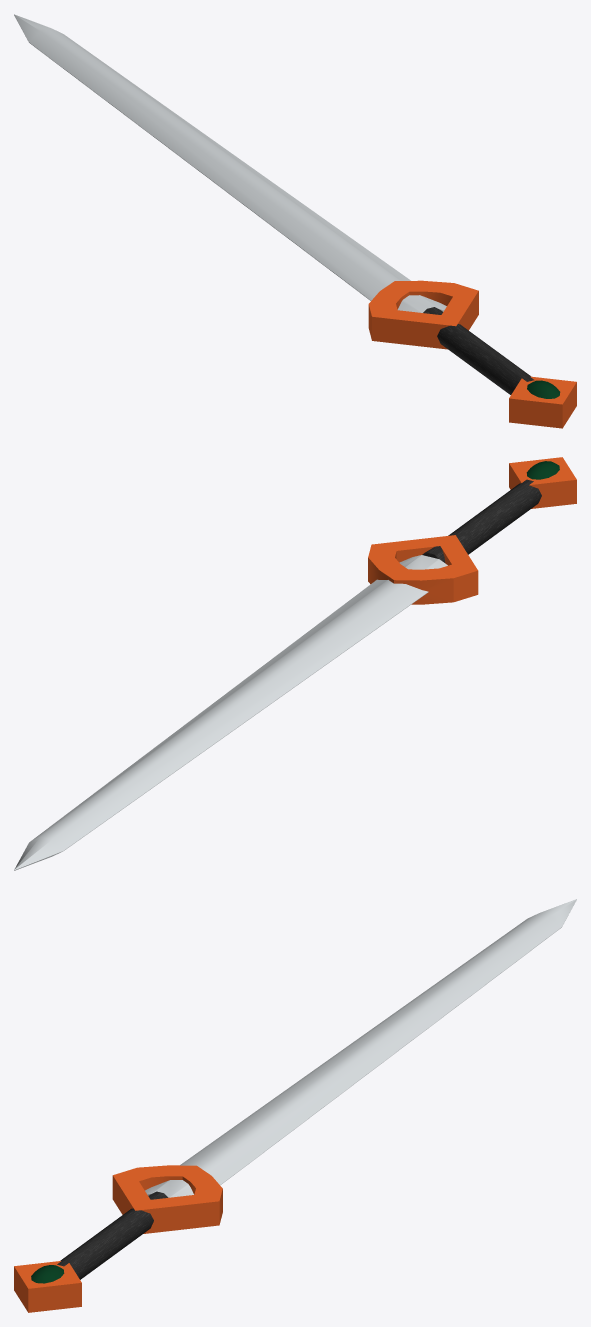
The model's file is swordGem.fbx.
3 renders of one model, top to bottom at view 1: azimuth 30°, elevation 25°; view 2: azimuth 150°, elevation 25°; view 3: azimuth 330°, elevation 25°, orthographic.
Parts seen in each view (by area): view 1: Sphere003; view 2: Sphere003; view 3: Sphere003.
Part boxes in pixels (x1,y1,x2,y2): Sphere003: [14, 14, 576, 428]; Sphere003: [14, 457, 576, 870]; Sphere003: [14, 899, 576, 1312].
Bounding box in the file's own units: 55.52 × 494 × 18.25.
4 materials, 1 textured.
